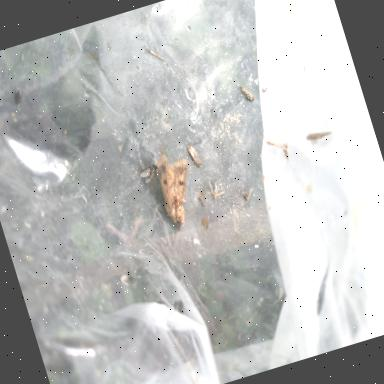abw: (148, 148, 212, 246)
pbw: (186, 144, 202, 168), (240, 82, 256, 104)
